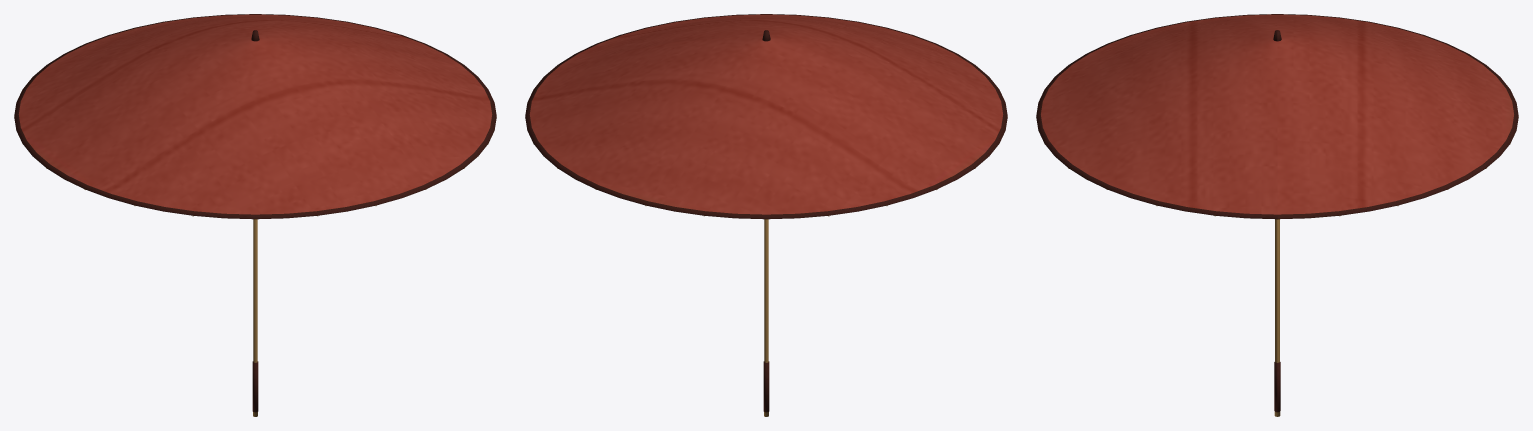
The model's file is nyanisyarud-yokai-fox-umbrella.glb.
3 views of the same model, side by side, from view 1: azimuth 30°, elevation 25°; view 2: azimuth 150°, elevation 25°; view 3: azimuth 270°, elevation 25° (orthographic).
Parts seen in each view (by area): view 1: Wedding_Couple_Rain_Wagasa; view 2: Wedding_Couple_Rain_Wagasa; view 3: Wedding_Couple_Rain_Wagasa.
Boxes of the visible parts, left/top/right/bottom form: Wedding_Couple_Rain_Wagasa: left=14, top=14, right=496, bottom=416; Wedding_Couple_Rain_Wagasa: left=525, top=14, right=1007, bottom=416; Wedding_Couple_Rain_Wagasa: left=1036, top=14, right=1518, bottom=416.
Bounding box in the file's own units: 3.2 × 2.81 × 3.2.
Materials: 1 (1 with a texture image).
